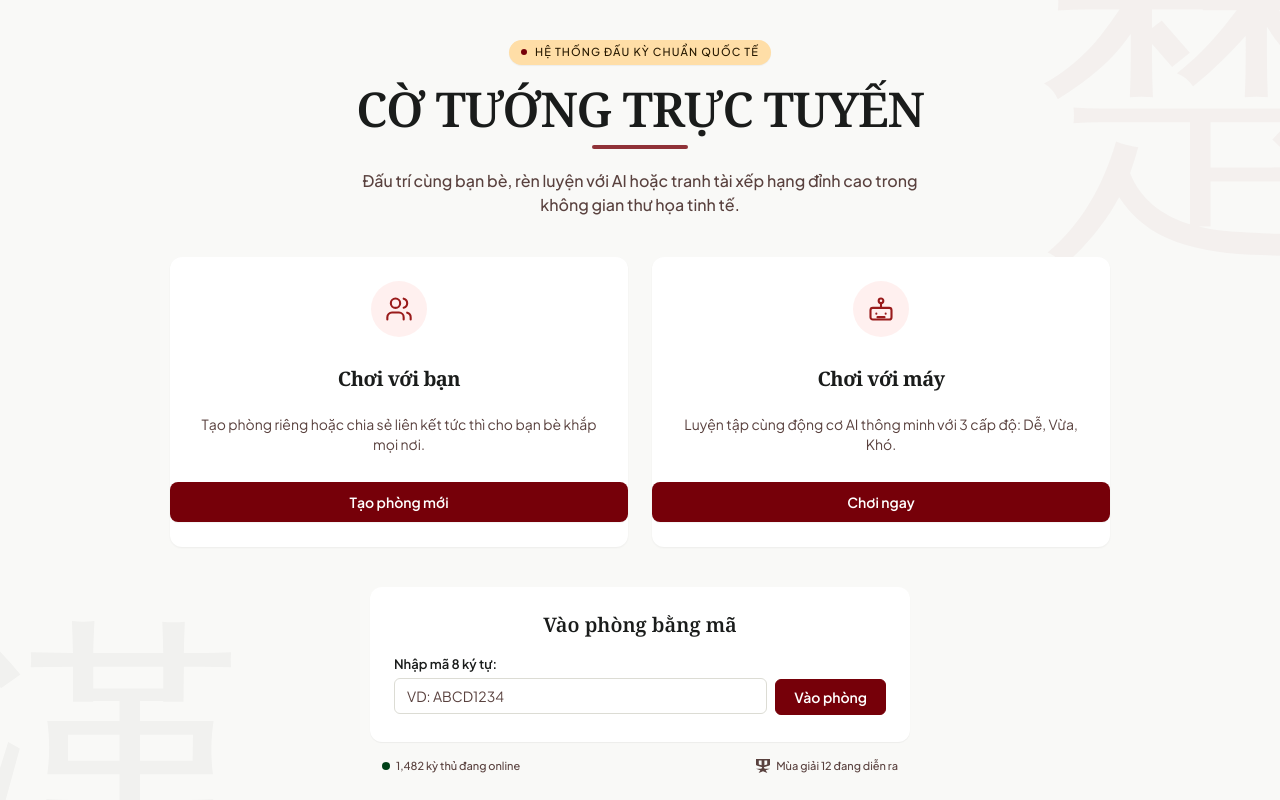
Test: HomePage › shows the join error for HETHAN99 next to the field
Type "HETHAN99" into the field named "Vào phòng bằng mã".
click(581, 696); type("HETHAN99")  # box [394, 678, 767, 714]
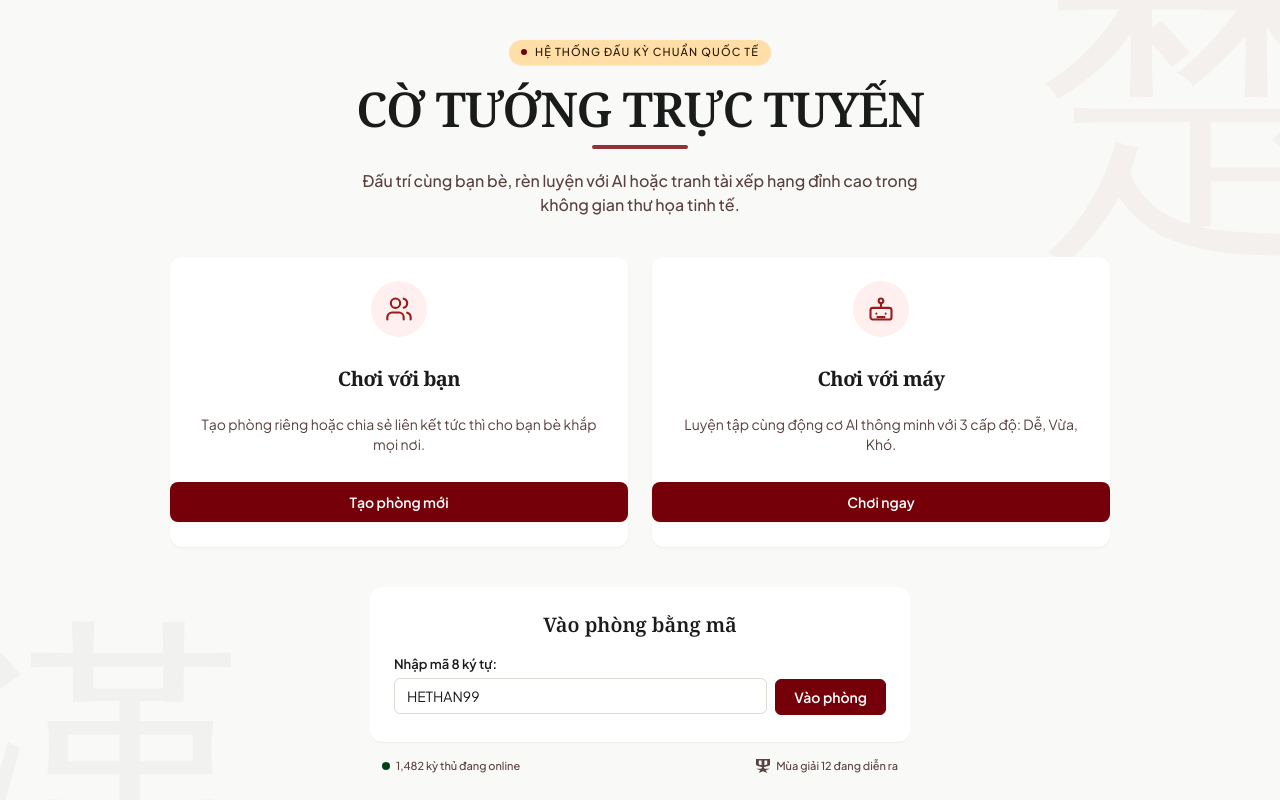
Click the button "Vào phòng".
click(831, 696)  # box [775, 678, 886, 714]
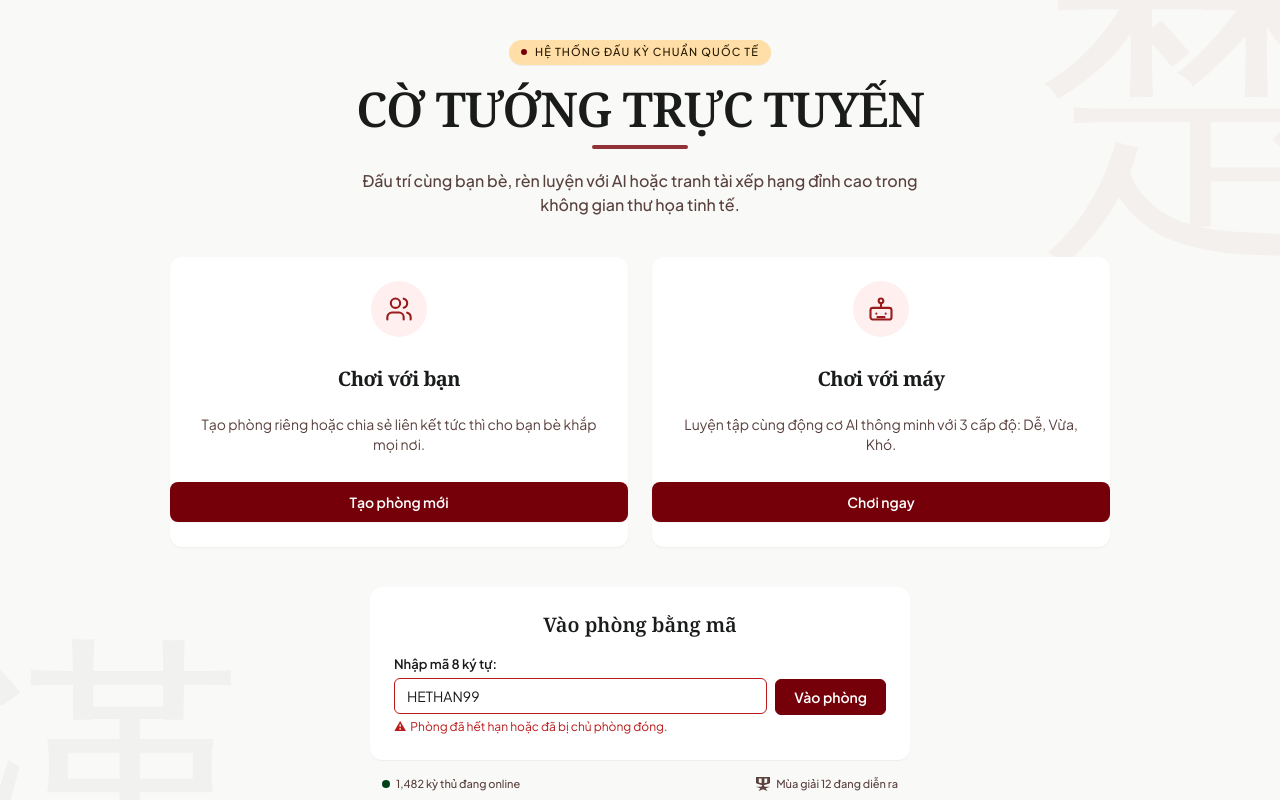
Check: the text "Phòng đã hết hạn hoặc đã bị chủ phòng đóng." is shown, box [410, 719, 667, 734]
